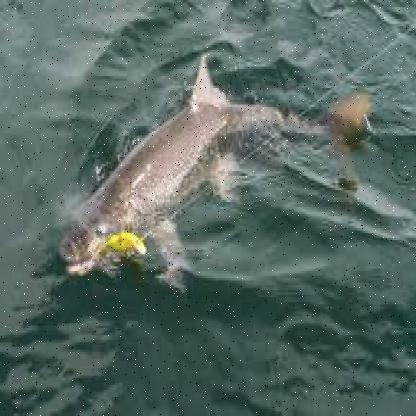fish: (55, 80, 362, 288)
